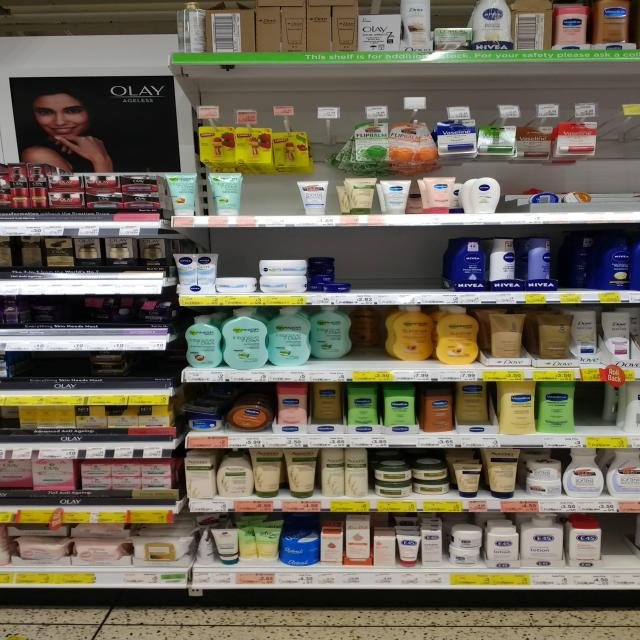empty: (350, 239, 444, 293), (245, 174, 297, 216), (12, 352, 90, 380), (601, 517, 637, 570), (578, 382, 605, 431), (130, 354, 174, 382)
